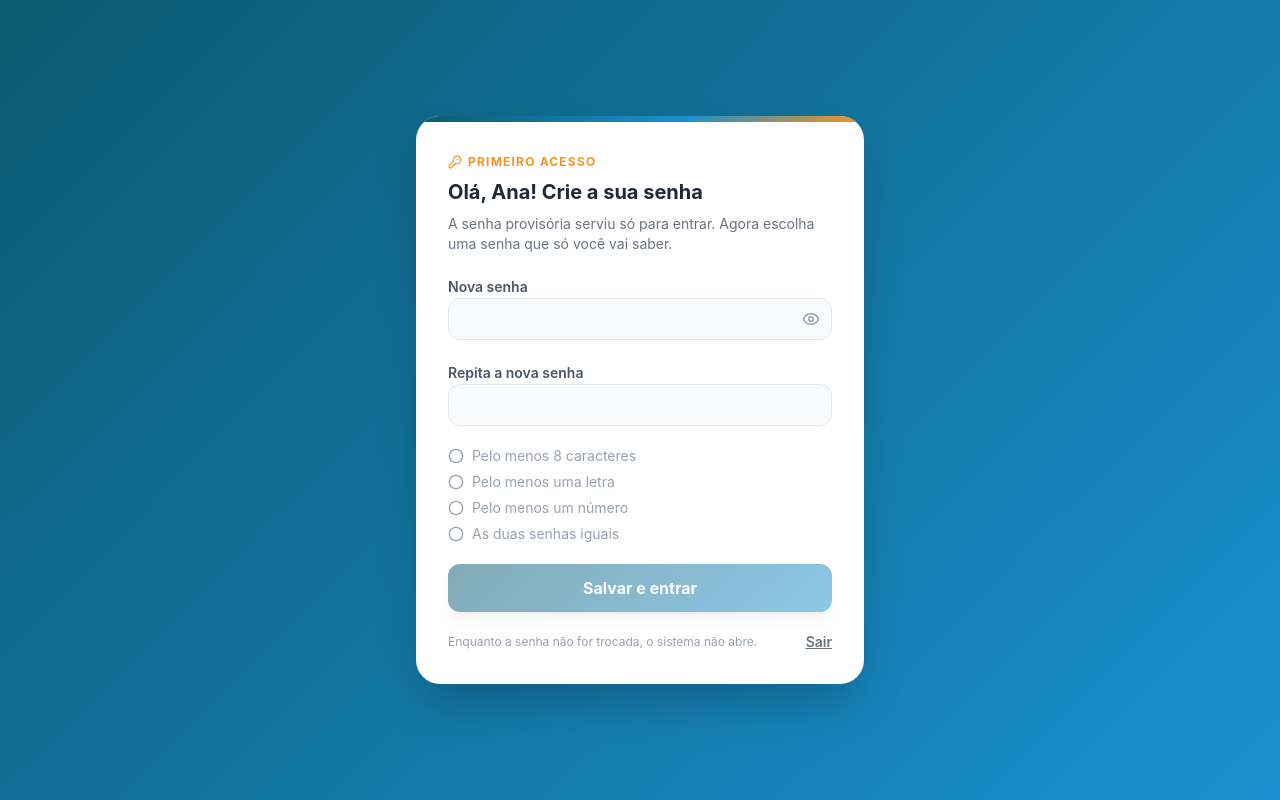
Test: tela de primeiro acesso › login antigo demais: pede para sair e entrar de novo; não tira a marca
Type "banho2026" into the password field labelled "Nova senha" at {"x": 640, "y": 319}, box [448, 298, 832, 340]
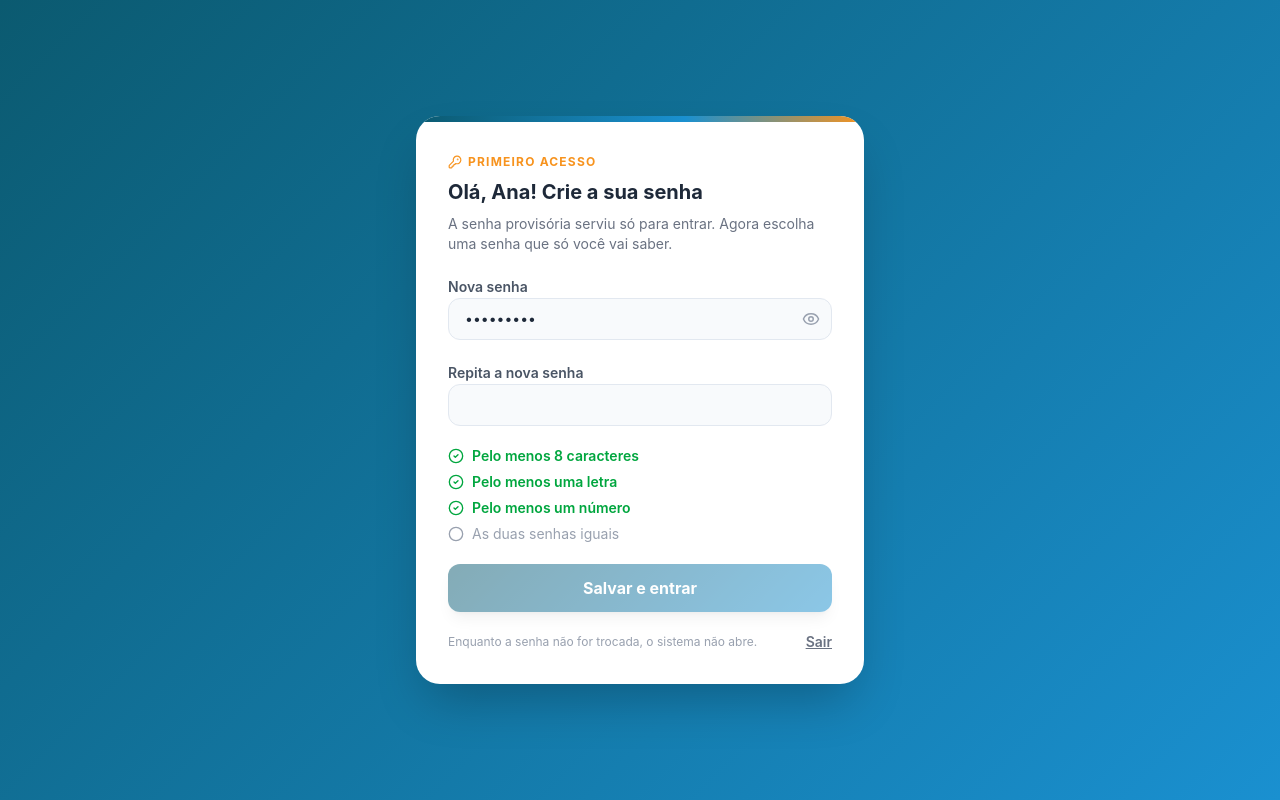
Type "banho2026" into the password field labelled "Repita a nova senha" at {"x": 640, "y": 405}, box [448, 384, 832, 426]
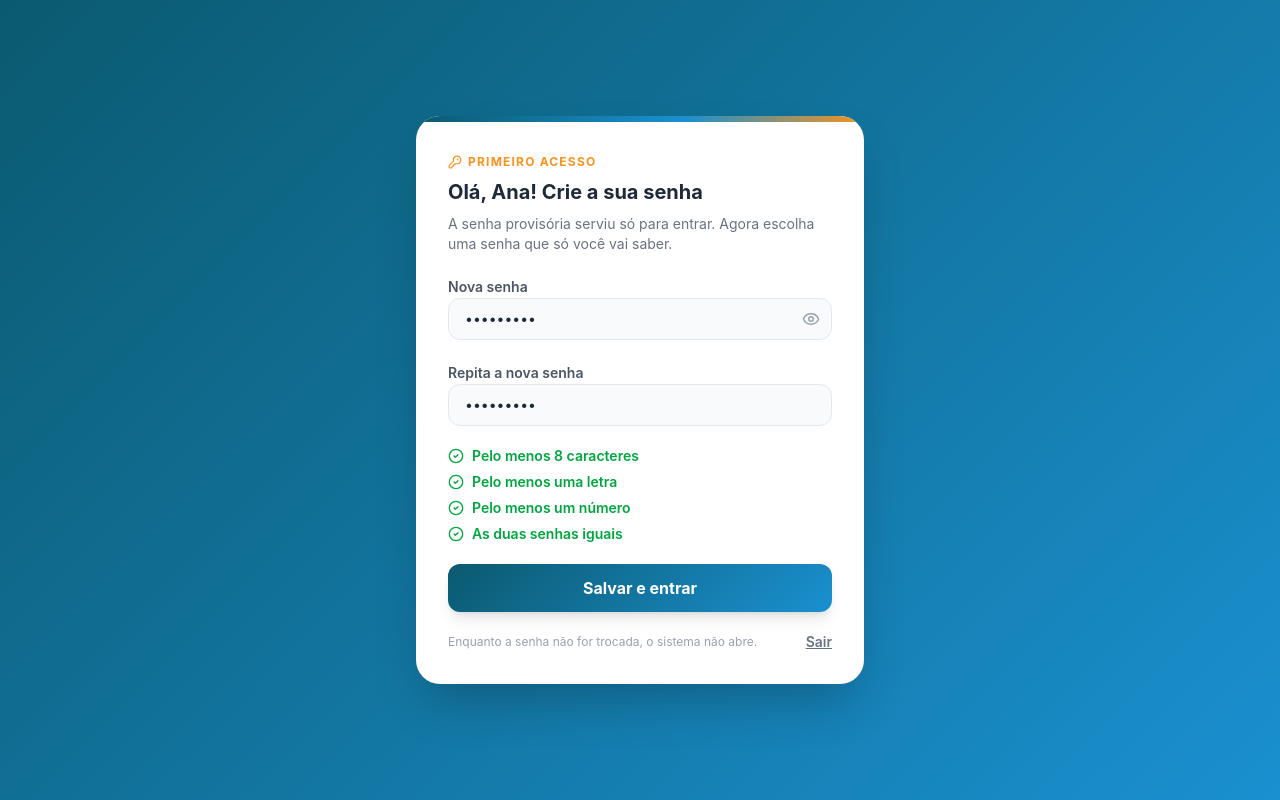
Click the button "Salvar e entrar" at {"x": 640, "y": 588}, box [448, 564, 832, 612]
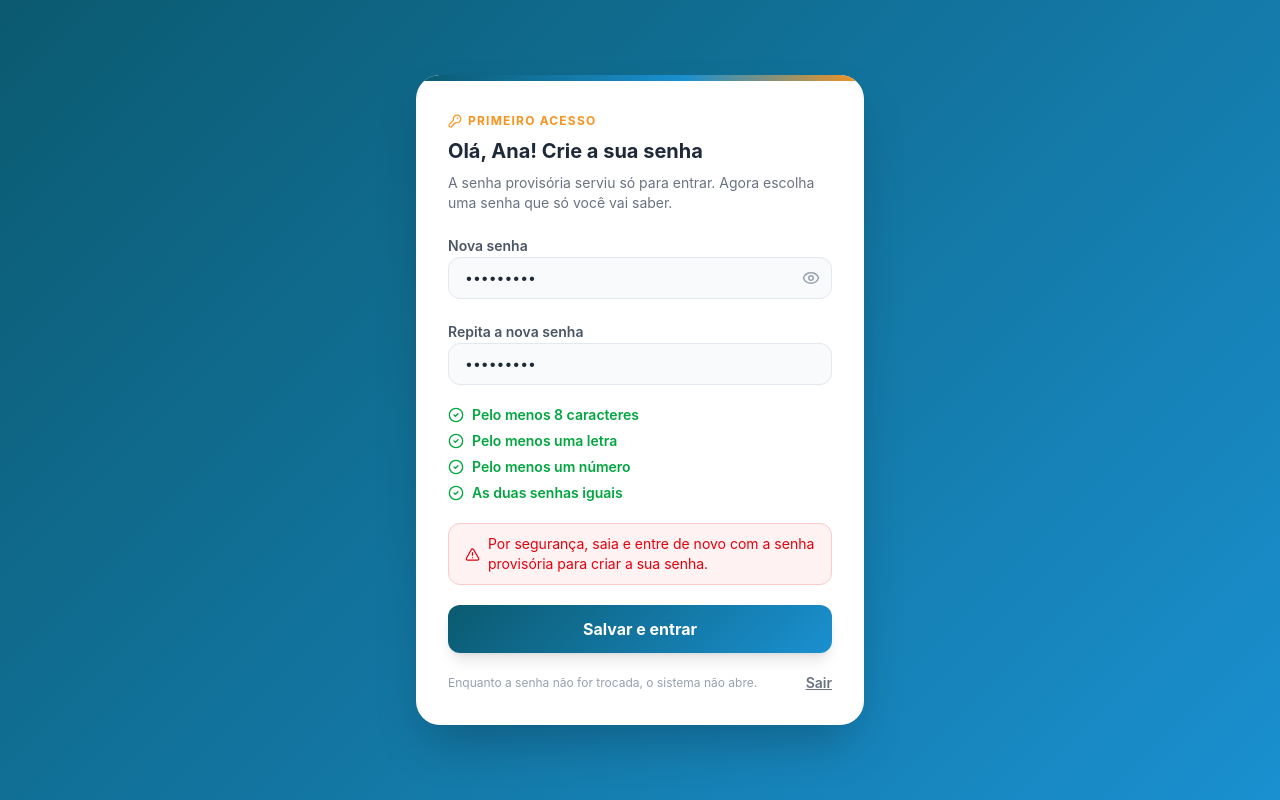
Now the text "Por segurança, saia e entre de novo com a senha provisória para criar a sua senha." is shown, box [488, 535, 814, 572]
